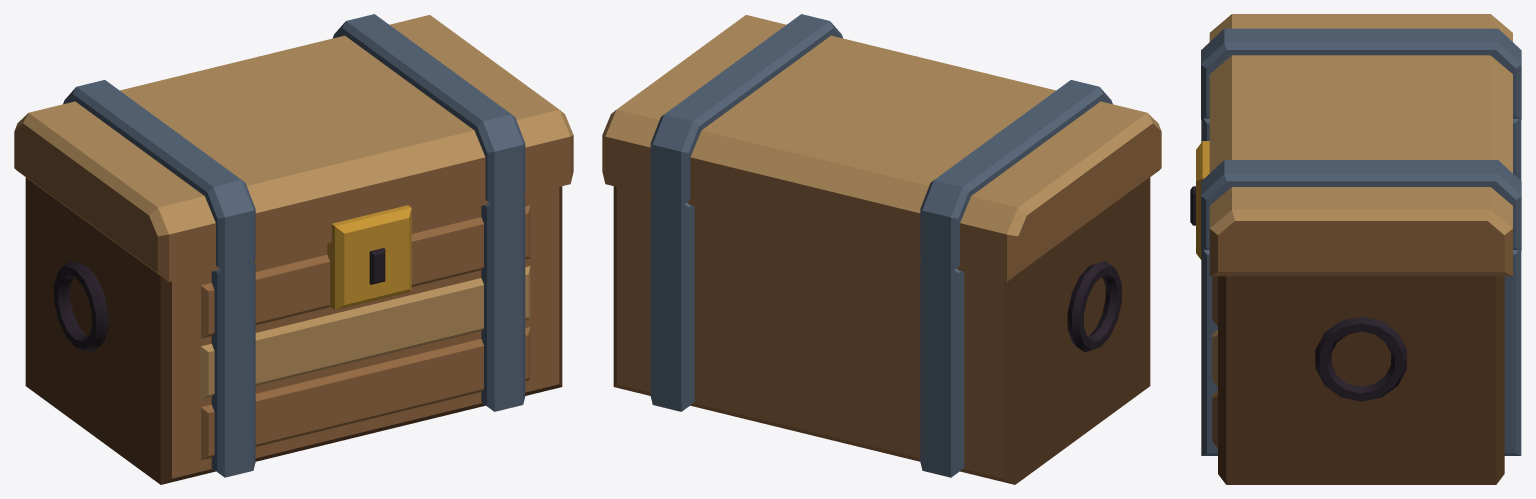
The model's file is Chest_07.glb.
The picture shows the model from 3 angles, left to right: view 1: azimuth 30°, elevation 25°; view 2: azimuth 150°, elevation 25°; view 3: azimuth 270°, elevation 25°; orthographic projection.
Parts seen in each view (by area): view 1: Chest_07; view 2: Chest_07; view 3: Chest_07.
Part boxes in pixels (left/top/right/bottom): Chest_07: left=14, top=14, right=573, bottom=484; Chest_07: left=602, top=14, right=1161, bottom=484; Chest_07: left=1190, top=14, right=1521, bottom=484.
Bounding box in the file's own units: 3.65 × 2.28 × 2.39.
